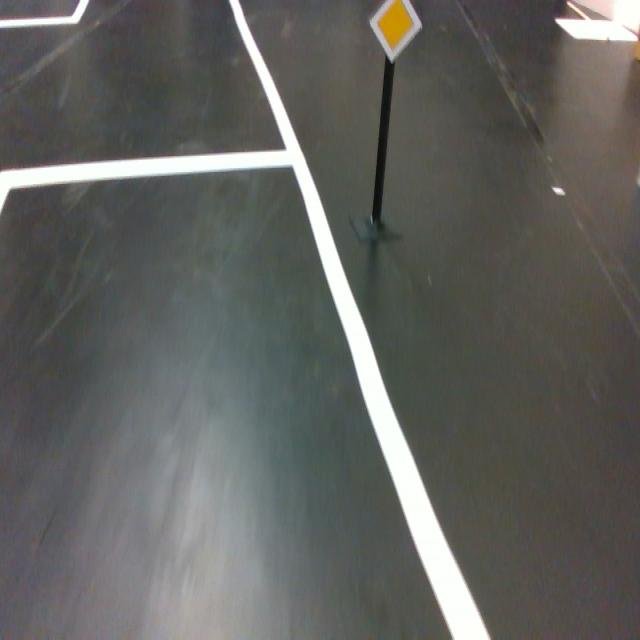priority-sign: (367, 0, 422, 64)
